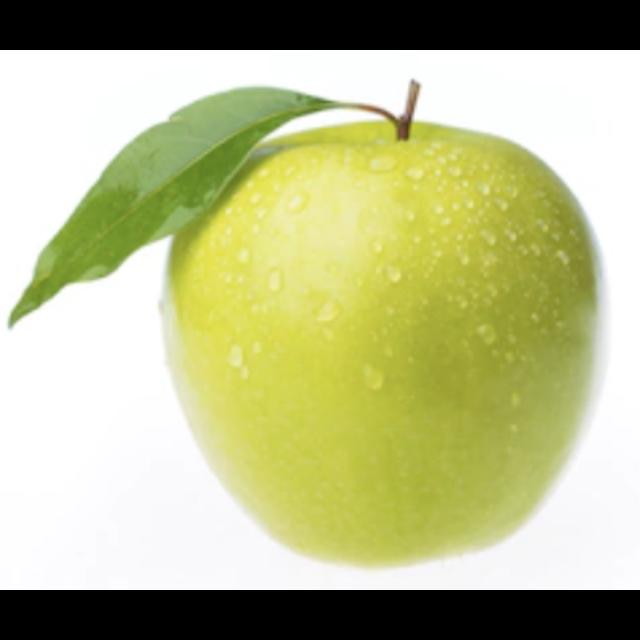Apel Segar: (152, 113, 610, 572)
